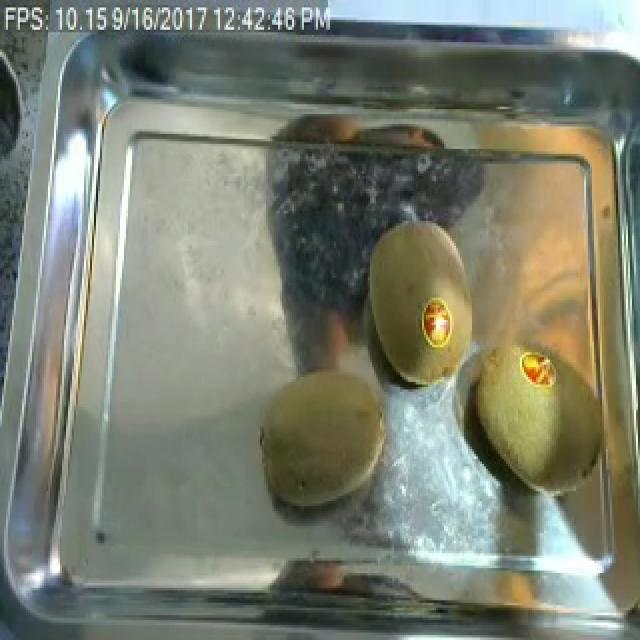Fruit: (460, 335, 636, 506), (252, 355, 400, 516), (356, 211, 484, 397)
